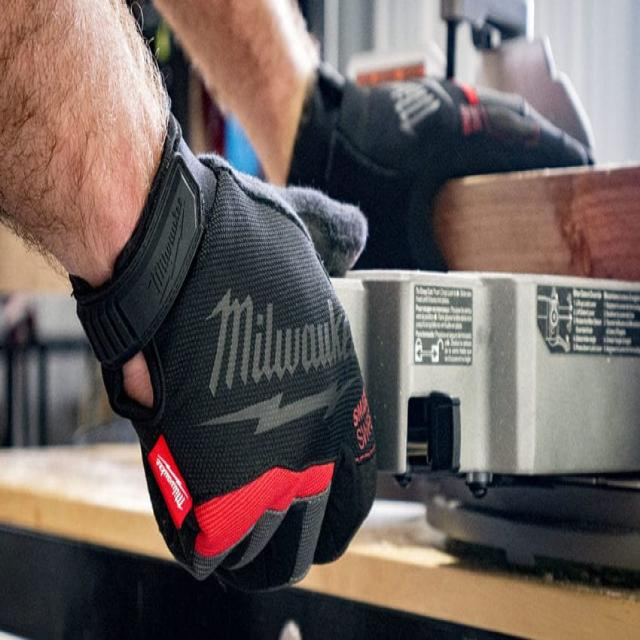gloves: (63, 114, 381, 585), (279, 48, 596, 277)
